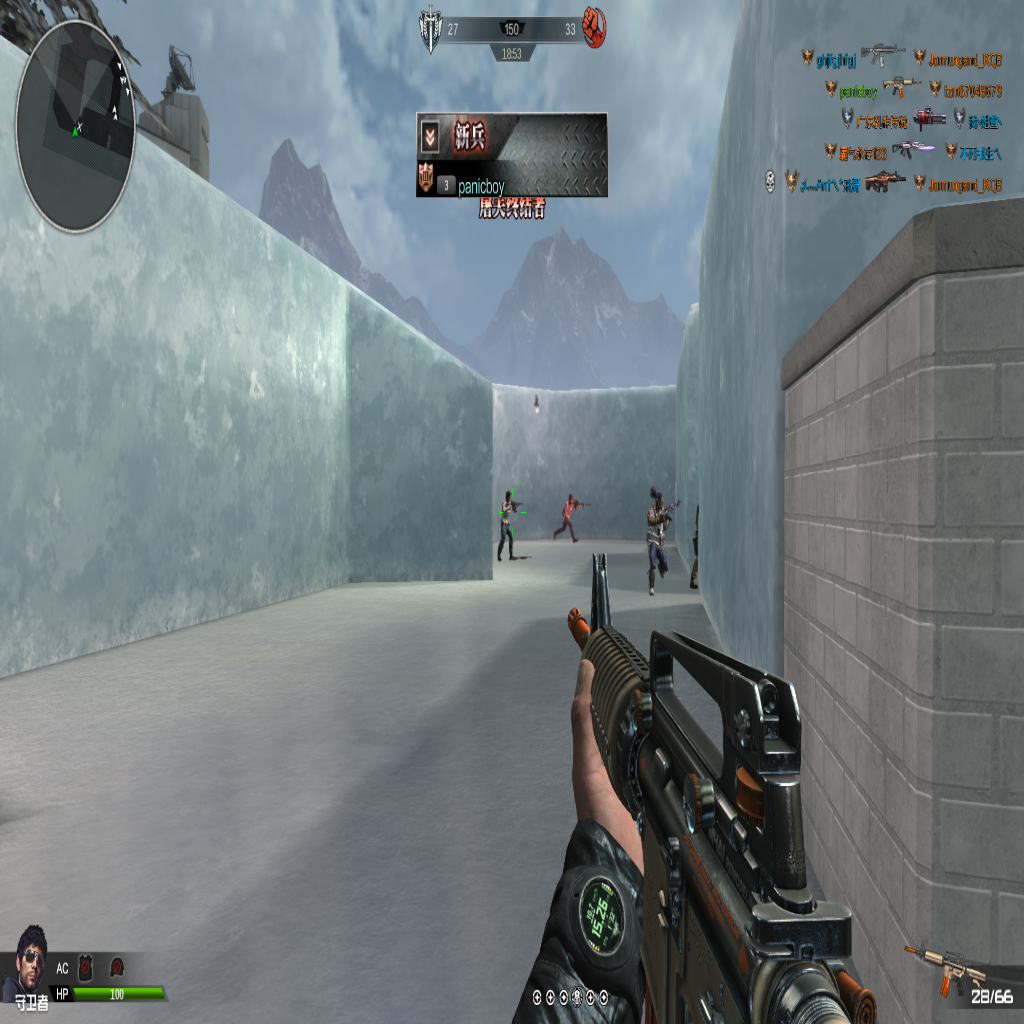tt: (649, 485, 676, 587), (498, 485, 522, 560), (555, 493, 585, 544), (690, 505, 700, 588)
